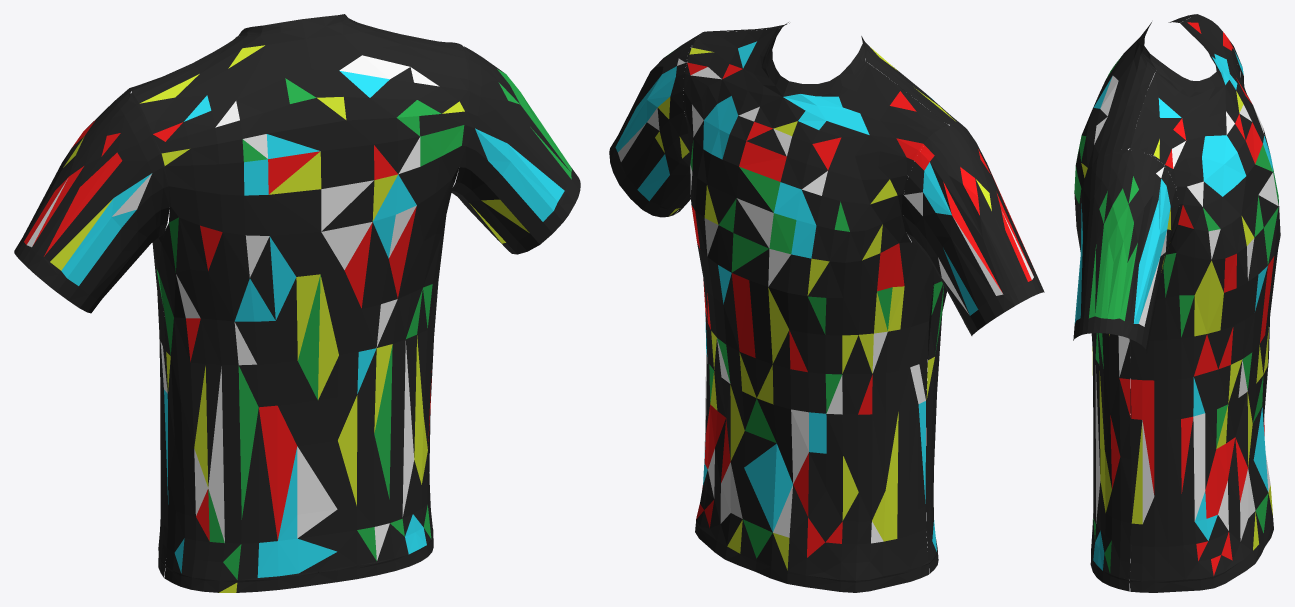
File: shirt-zones.glb
3 views of the same model, side by side, from view 1: azimuth 30°, elevation 25°; view 2: azimuth 150°, elevation 25°; view 3: azimuth 270°, elevation 25° (orthographic). The views are drawn at different scales.
Visible parts, largest first — view 1: back_torso, sleeves, front_torso; view 2: front_torso, sleeves, back_torso; view 3: front_torso, back_torso, sleeves.
Boxes of the visible parts, left/top/right/bottom form: back_torso: left=137, top=14, right=510, bottom=592; sleeves: left=14, top=46, right=580, bottom=313; front_torso: left=117, top=28, right=246, bottom=578; front_torso: left=683, top=43, right=958, bottom=592; sleeves: left=609, top=33, right=1044, bottom=335; back_torso: left=670, top=22, right=967, bottom=573; front_torso: left=1169, top=14, right=1280, bottom=590; back_torso: left=1074, top=18, right=1199, bottom=592; sleeves: left=1073, top=41, right=1244, bottom=353.
Bounding box in the file's own units: 341449 × 352917 × 130433.
